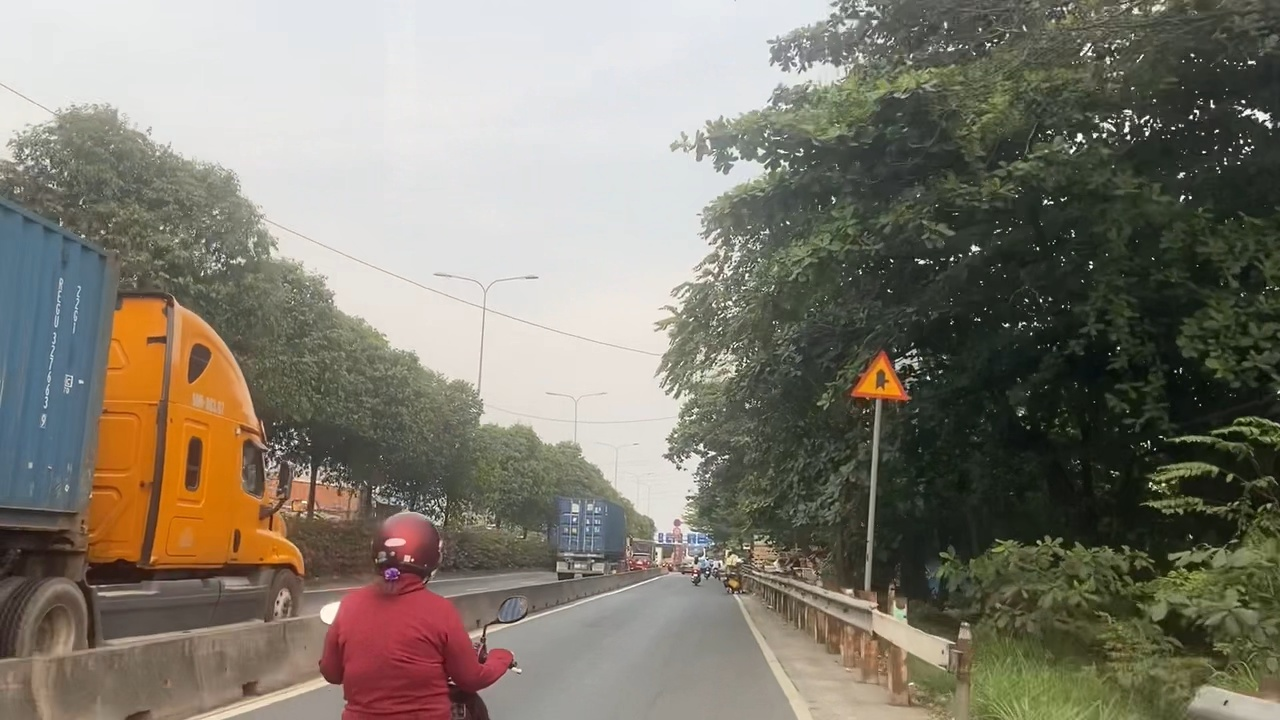giao_khong_uu_tien_phai: (848, 347, 914, 405)
